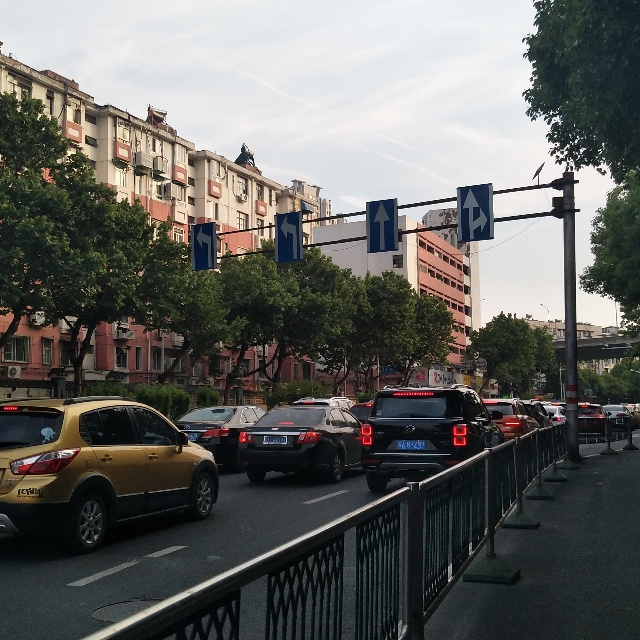left: (278, 211, 302, 256), (193, 221, 215, 264)
straight: (370, 197, 397, 249)
